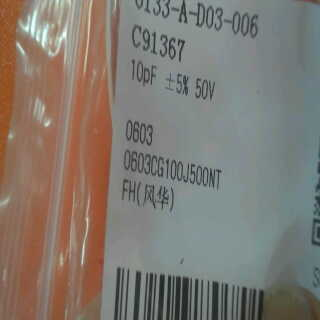10pF: (128, 58, 159, 86)
